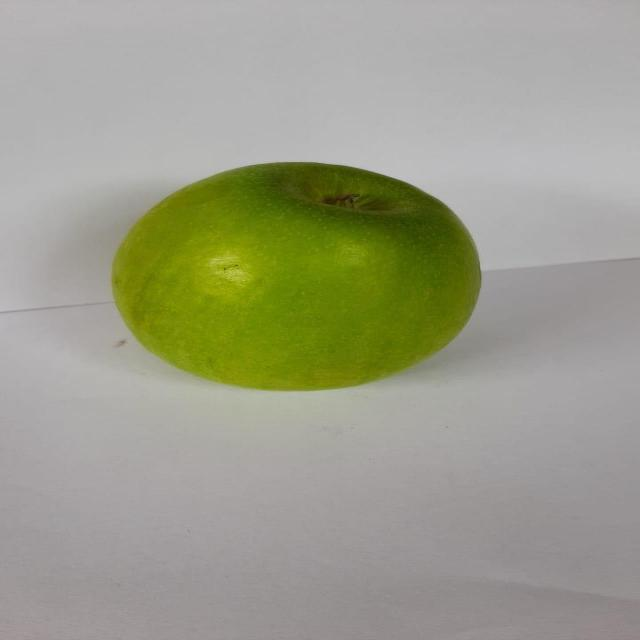Rotten Apple: (102, 152, 494, 396)
